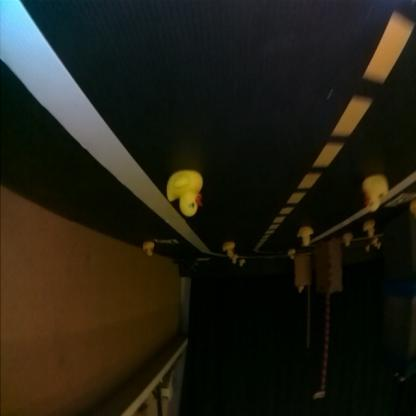Duckie: (167, 172, 202, 218), (364, 176, 388, 210), (300, 230, 314, 246), (144, 242, 156, 257), (364, 222, 376, 236), (224, 242, 234, 258), (344, 235, 352, 246), (288, 250, 296, 260)
